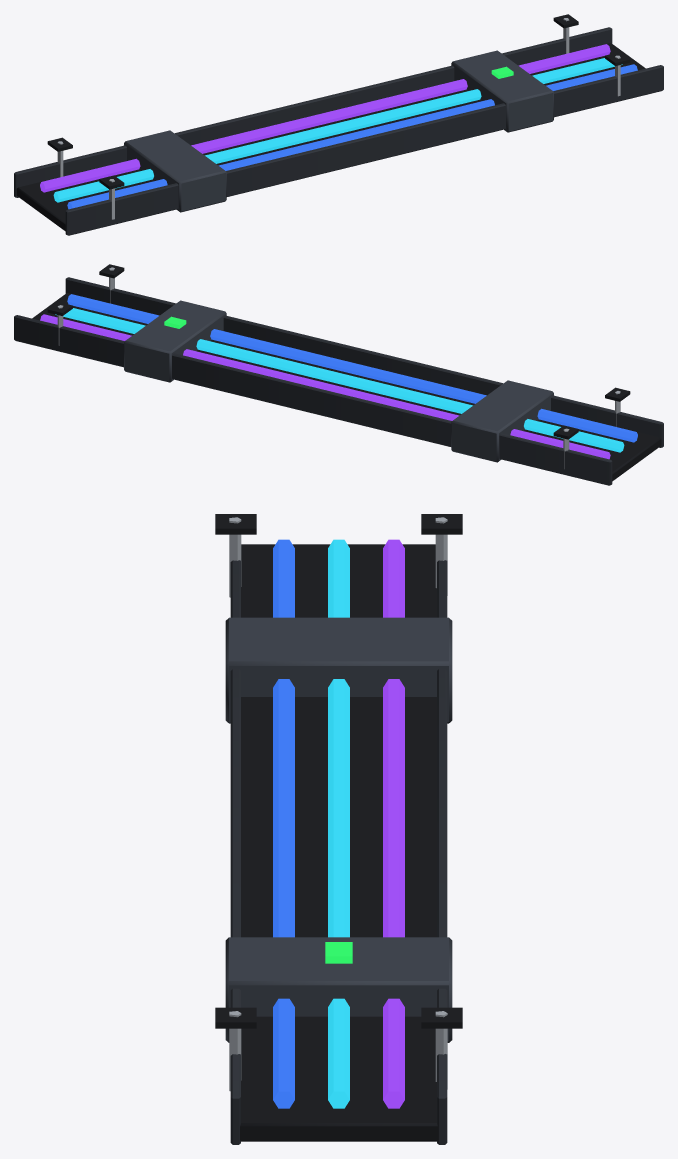
File: cabletray_fibre_glow_tray.glb
3 renders of one model, top to bottom at view 1: azimuth 30°, elevation 25°; view 2: azimuth 150°, elevation 25°; view 3: azimuth 270°, elevation 25°, orthographic. The views are drawn at different scales.
Parts seen in each view (by area): view 1: cabletray_fibre_glow_tray; view 2: cabletray_fibre_glow_tray; view 3: cabletray_fibre_glow_tray.
Boxes of the visible parts, left/top/right/bottom form: cabletray_fibre_glow_tray: left=14, top=14, right=663, bottom=235; cabletray_fibre_glow_tray: left=14, top=264, right=663, bottom=485; cabletray_fibre_glow_tray: left=215, top=514, right=462, bottom=1144.
Size of the model in its own units: 2.01 by 0.153 by 0.36.
